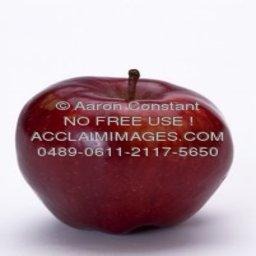apple: (15, 70, 234, 235)
